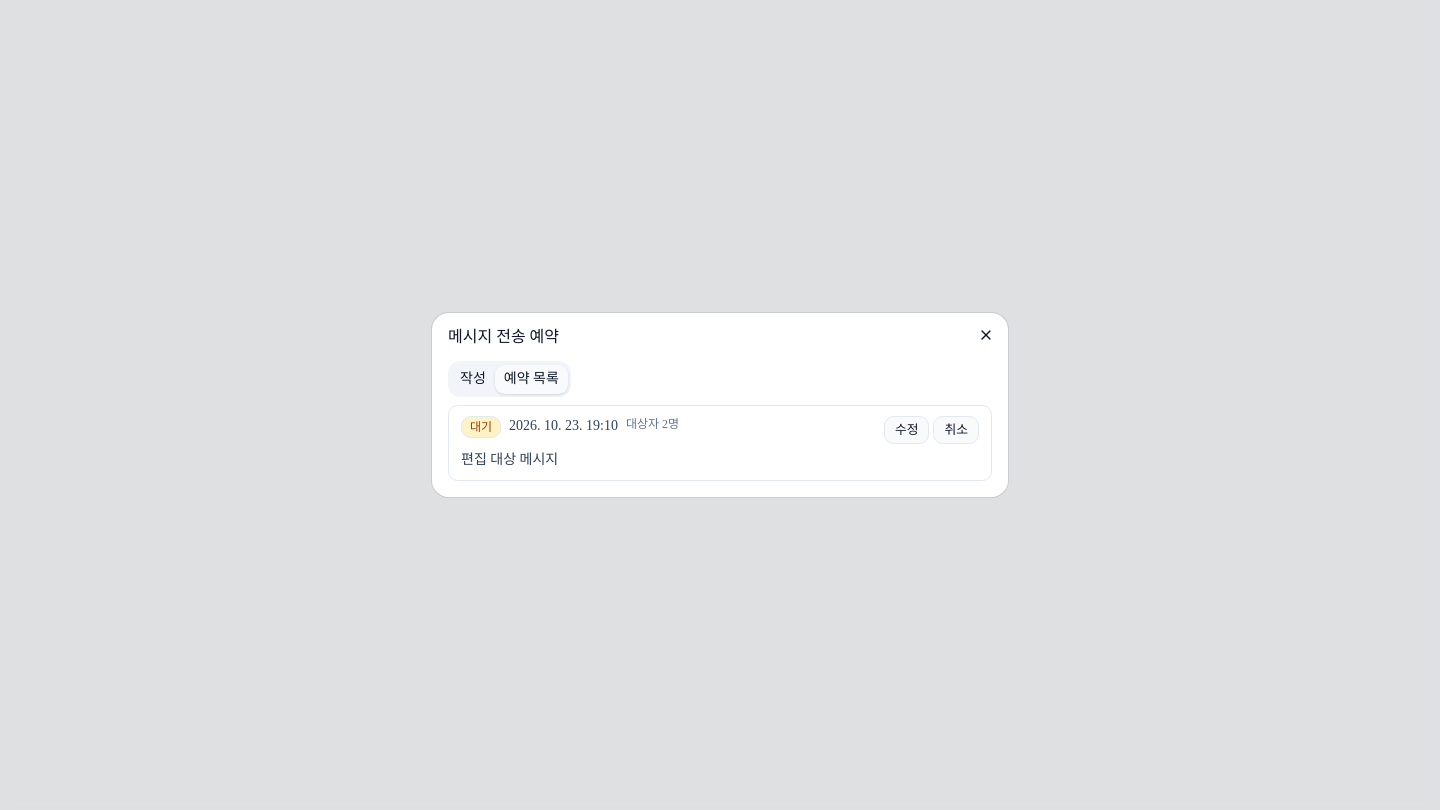
Test: ScheduledNoticeDialog 탭 통합 › 목록 수정 클릭 → 작성 탭 전환 + initial prefill
The width and height of the screenshot is (1440, 810).
Expected: the list item with test id "scheduled-row-row-edit" is shown, [448,405,992,481]
Click the button "수정": (907, 430) [884,416,929,444]
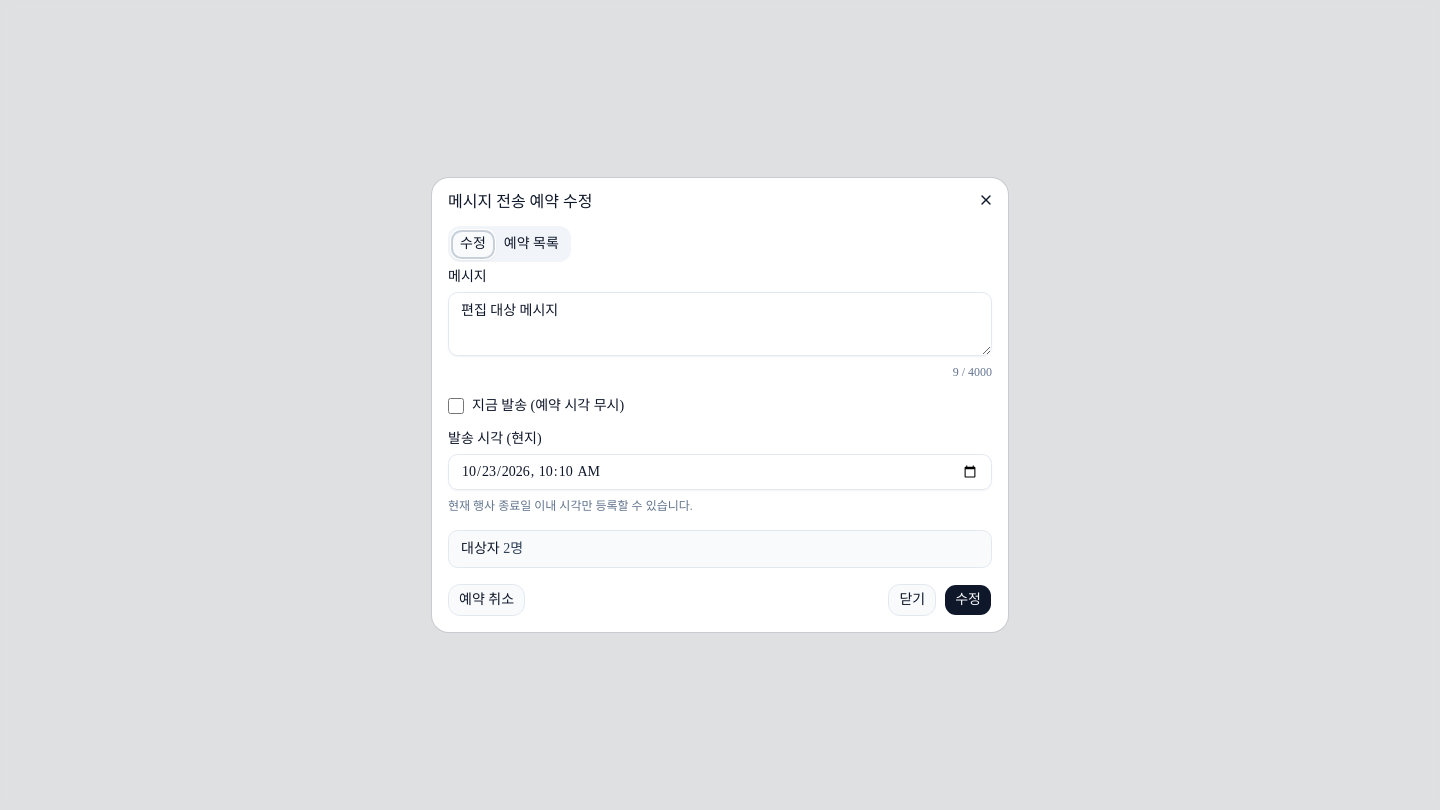
Expected: the button "수정" is shown, [944,584,992,616]
Result: the text box labelled "메시지" holds "편집 대상 메시지" at [448,292,992,356]
